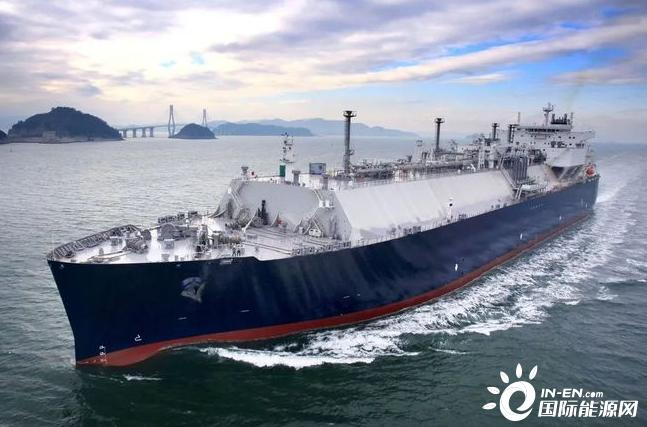Cargoship: (43, 97, 601, 371)
